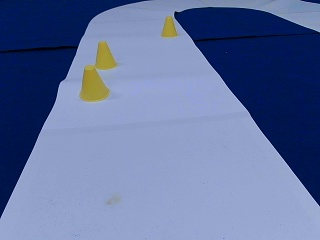cone: (79, 66, 109, 100), (93, 41, 116, 69), (161, 17, 176, 37)
